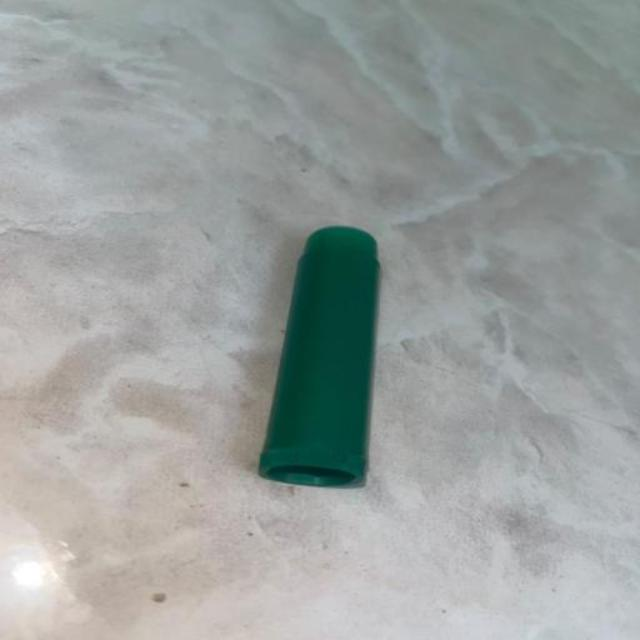HDPE: (255, 175, 505, 574)
